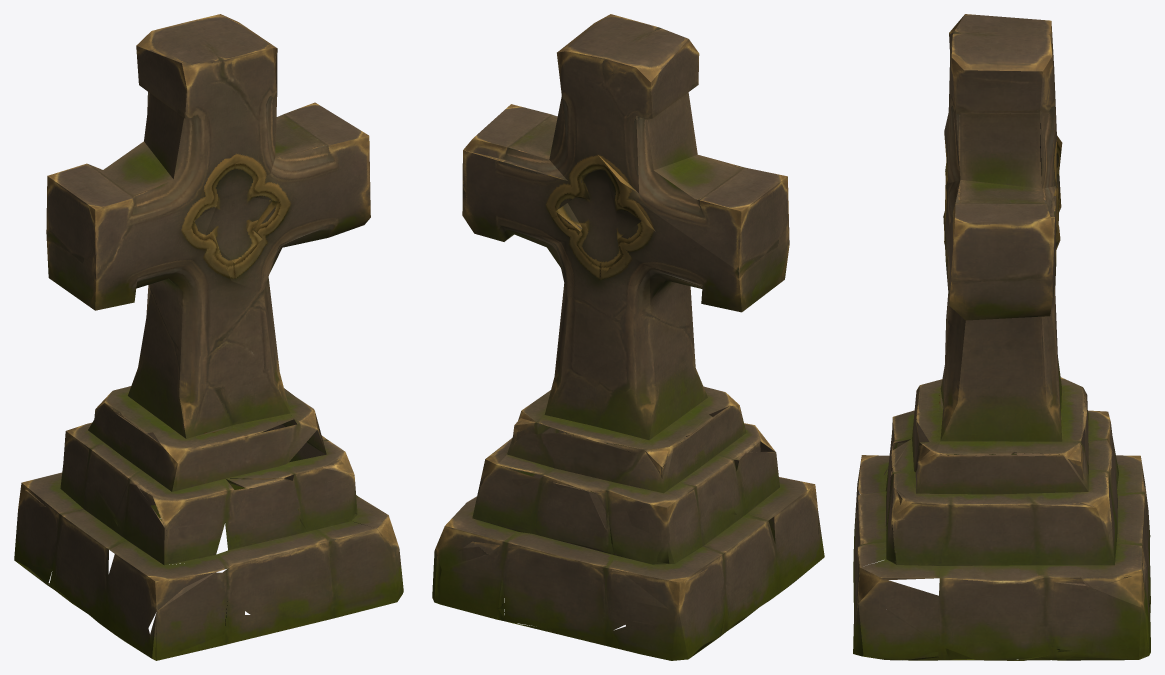
Rendered from tombstone_b.glb.
3 views of the same model, side by side, from view 1: azimuth 30°, elevation 25°; view 2: azimuth 150°, elevation 25°; view 3: azimuth 270°, elevation 25° (orthographic). The views are drawn at different scales.
Visible parts, largest first — view 1: low; view 2: low; view 3: low.
Boxes of the visible parts, x1,y1,x2,y2 form: low: (14,14,403,660); low: (432,14,824,660); low: (853,14,1150,660).
Size of the model in its own units: 0.5384 by 0.9983 by 0.4806.
1 material, 1 textured.
